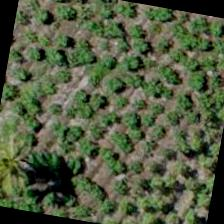Kelapa_Sawit: (0, 121, 59, 215)
